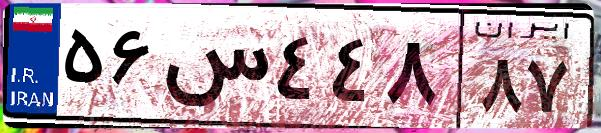4: (270, 28, 330, 110), (330, 28, 385, 110)
5: (57, 26, 110, 100)
6: (110, 28, 158, 98)
7: (525, 38, 570, 115)
8: (385, 28, 445, 110), (475, 38, 525, 113)
س: (158, 20, 270, 120)
